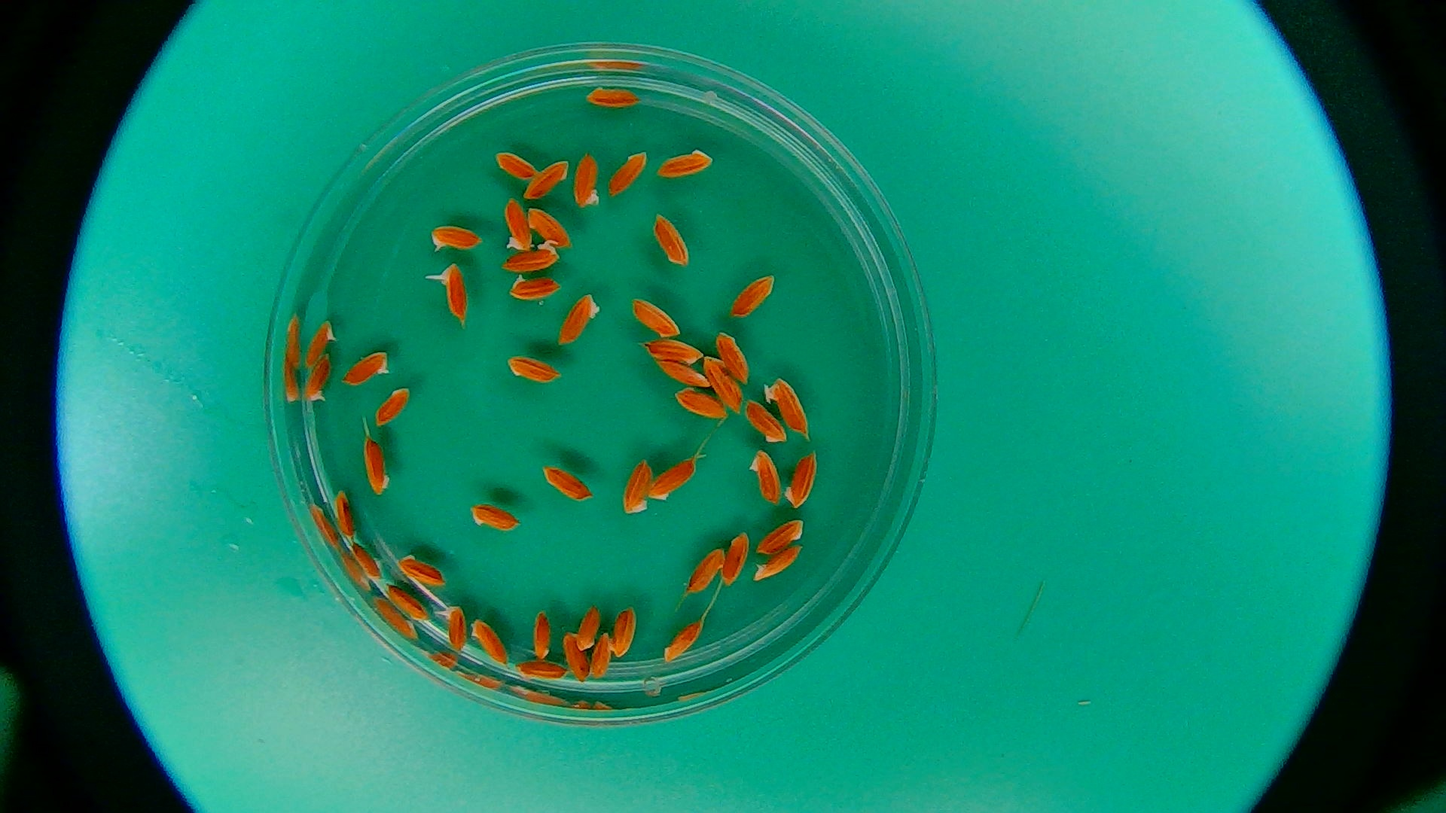no: (656, 141, 714, 191), (699, 351, 743, 415), (762, 375, 810, 433), (651, 211, 694, 272), (556, 292, 602, 349), (540, 458, 595, 504), (630, 293, 682, 341), (605, 147, 650, 201), (740, 397, 788, 447), (522, 157, 569, 208), (744, 444, 782, 506), (730, 272, 777, 321), (646, 458, 697, 503), (672, 381, 727, 420), (501, 193, 535, 255), (362, 435, 395, 498), (571, 149, 604, 212), (468, 618, 509, 668), (393, 550, 448, 587), (340, 350, 392, 389), (752, 518, 804, 557), (688, 544, 725, 598), (715, 330, 751, 385), (752, 543, 804, 581), (384, 583, 432, 624), (643, 336, 704, 368), (619, 458, 653, 515), (524, 206, 570, 248), (466, 500, 525, 532), (785, 449, 816, 509), (583, 80, 642, 111), (505, 353, 562, 385), (499, 245, 559, 275), (718, 531, 750, 587), (302, 352, 334, 407), (558, 628, 591, 681), (505, 274, 563, 303), (607, 601, 636, 659), (663, 620, 703, 662), (305, 318, 337, 370), (492, 148, 540, 182), (374, 388, 410, 428), (512, 656, 567, 682), (351, 537, 383, 581), (587, 629, 612, 681), (575, 605, 600, 651), (334, 491, 356, 543), (532, 611, 554, 662)
yes: (438, 263, 471, 321), (426, 221, 481, 255), (435, 601, 469, 653)
